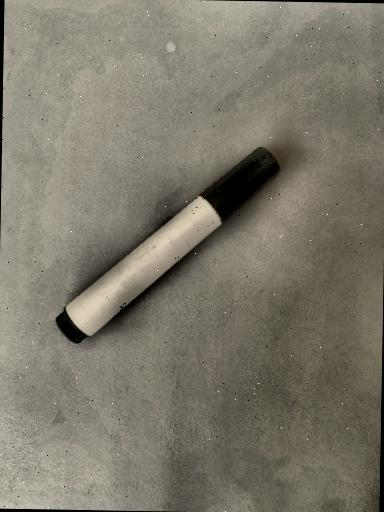marcador negro: (56, 148, 280, 343)
